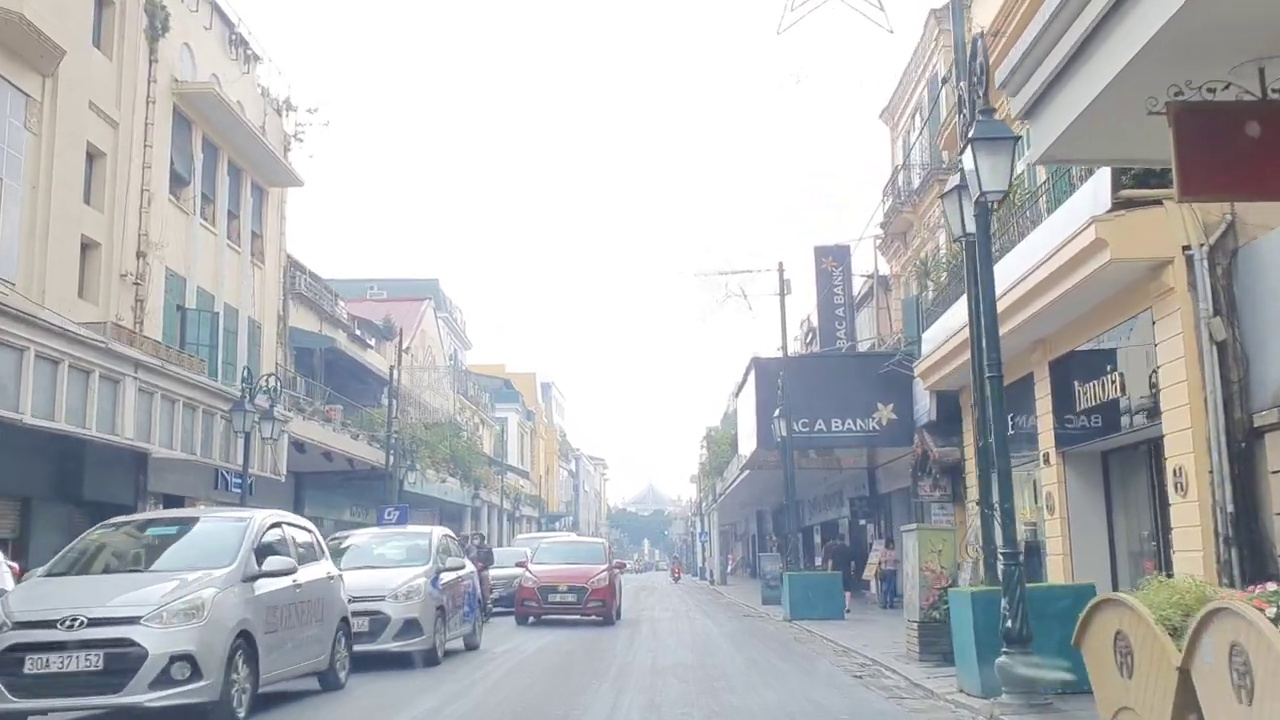vehicle-plate: (23, 652, 102, 670)
